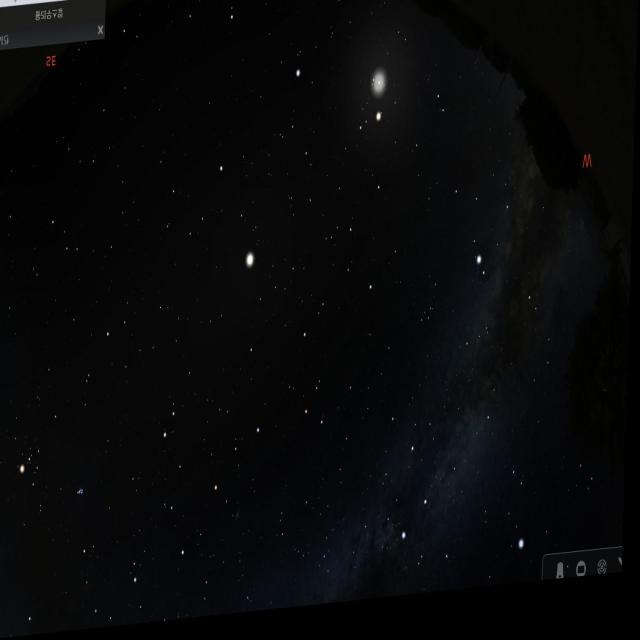aquila: (446, 134, 546, 292)
cygnus: (400, 418, 497, 578)
lyra: (496, 466, 539, 580)
moon: (360, 62, 395, 126)
pleiades: (72, 472, 90, 512)
taurus: (12, 392, 93, 532)
